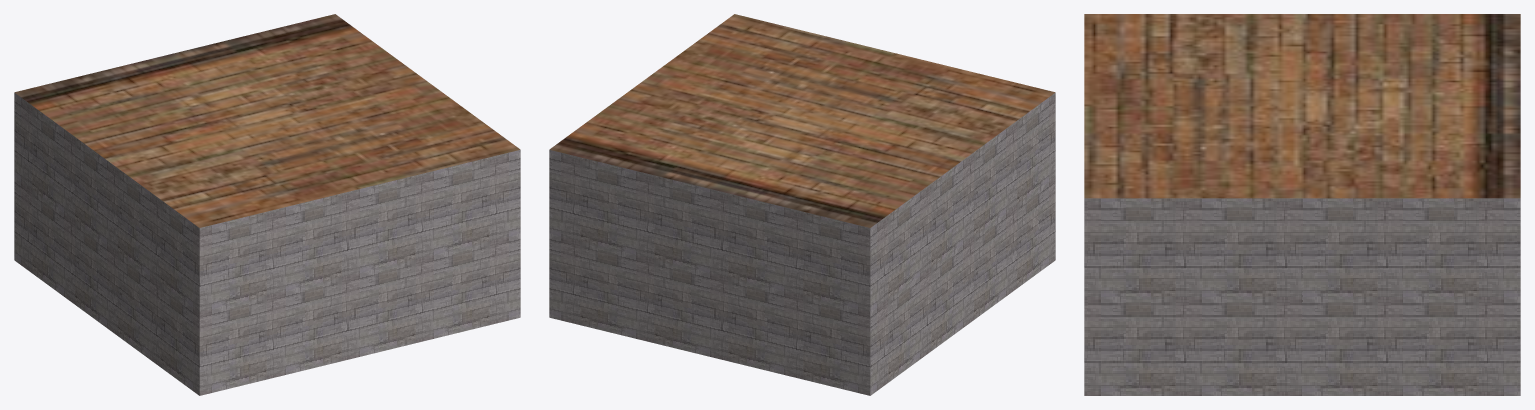
Rendered from fire.fbx.
The picture shows the model from 3 angles, left to right: view 1: azimuth 30°, elevation 25°; view 2: azimuth 150°, elevation 25°; view 3: azimuth 270°, elevation 25°; orthographic projection. The views are drawn at different scales.
Parts seen in each view (by area): view 1: Room; view 2: Room; view 3: Room.
Part boxes in pixels (<box>): Room: <box>14,14,520,395</box>; Room: <box>549,14,1055,395</box>; Room: <box>1084,14,1520,395</box>.
Size of the model in its own units: 10 by 5 by 10.
Materials: 4 (4 with a texture image).
